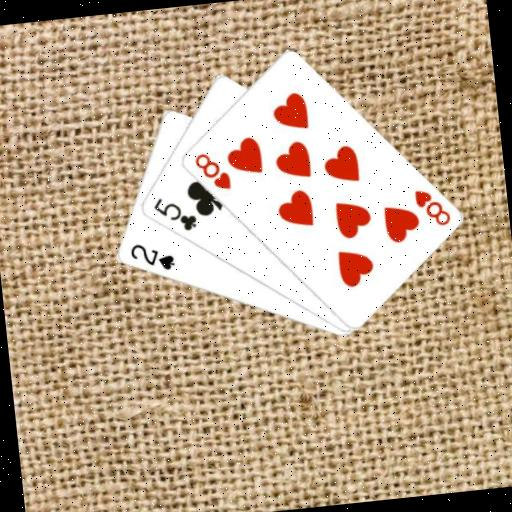2S: (126, 238, 177, 276)
5C: (149, 191, 199, 236)
8H: (190, 148, 233, 195), (410, 184, 453, 231)
